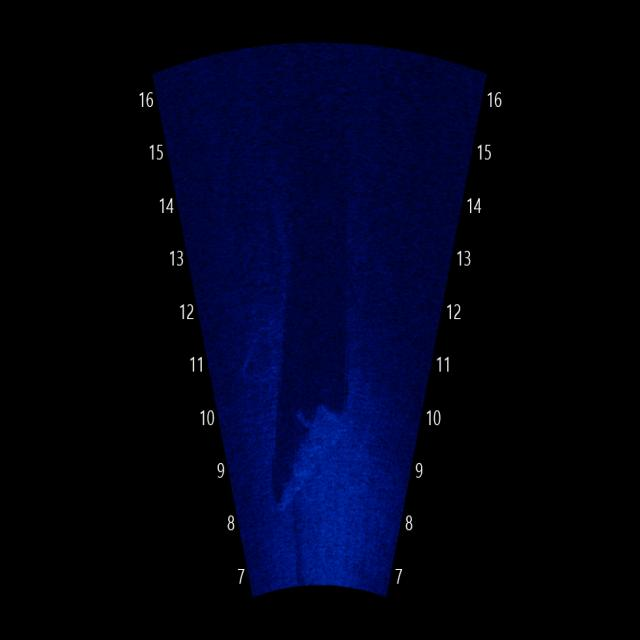triangle: (270, 376, 352, 520)
